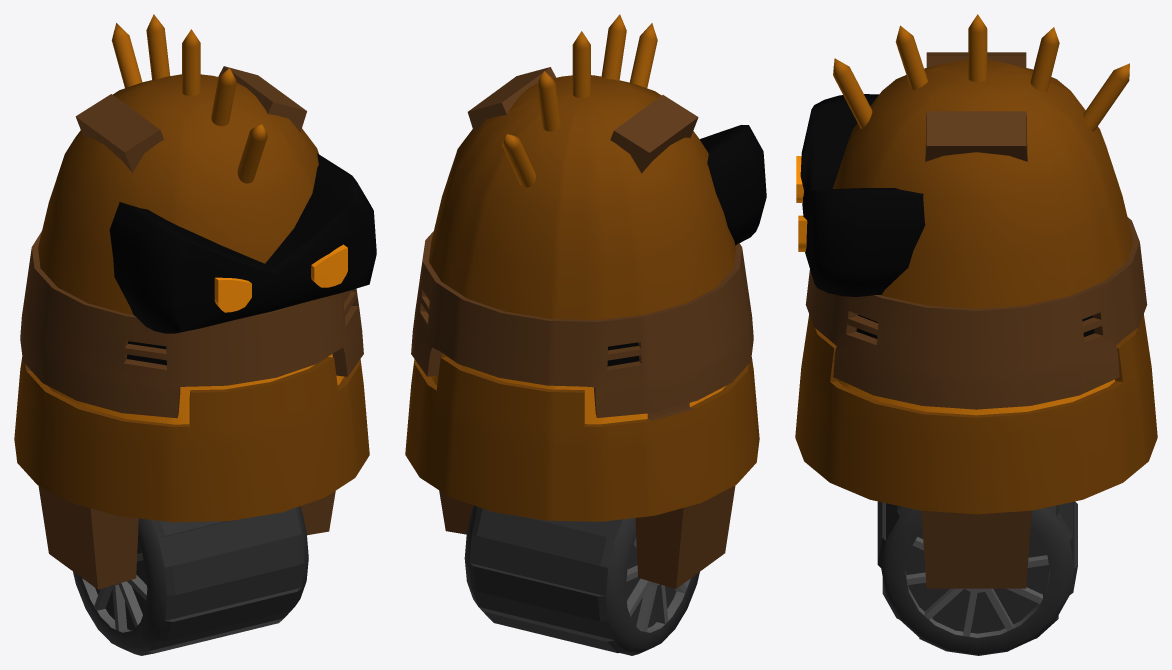
File: Shark combined pt2.fbx
3 views of the same model, side by side, from view 1: azimuth 30°, elevation 25°; view 2: azimuth 150°, elevation 25°; view 3: azimuth 270°, elevation 25° (orthographic).
Parts seen in each view (by area): view 1: Enemy_thrusters:pCylinder3; view 2: Enemy_thrusters:pCylinder3; view 3: Enemy_thrusters:pCylinder3.
Boxes of the visible parts, box(x1,y1,x2,y2) form: Enemy_thrusters:pCylinder3: box(14, 14, 376, 655); Enemy_thrusters:pCylinder3: box(405, 14, 766, 655); Enemy_thrusters:pCylinder3: box(795, 14, 1157, 655).
Size of the model in its own units: 2.68 by 5 by 2.68.
